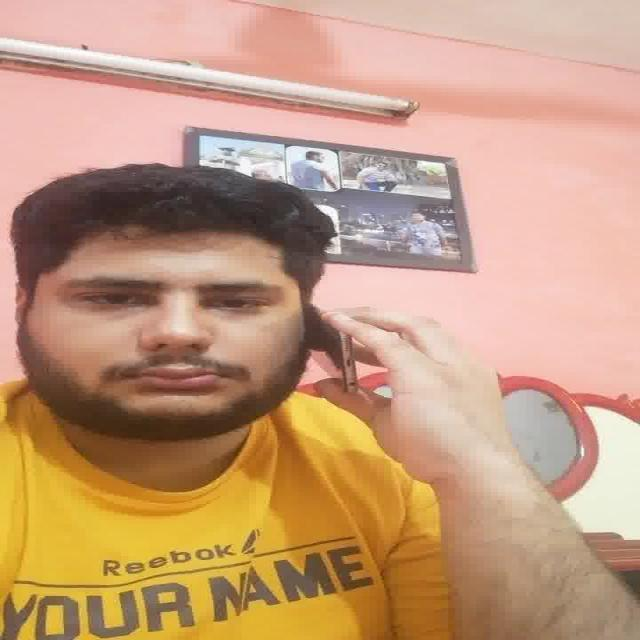Phone: (317, 307, 359, 393)
